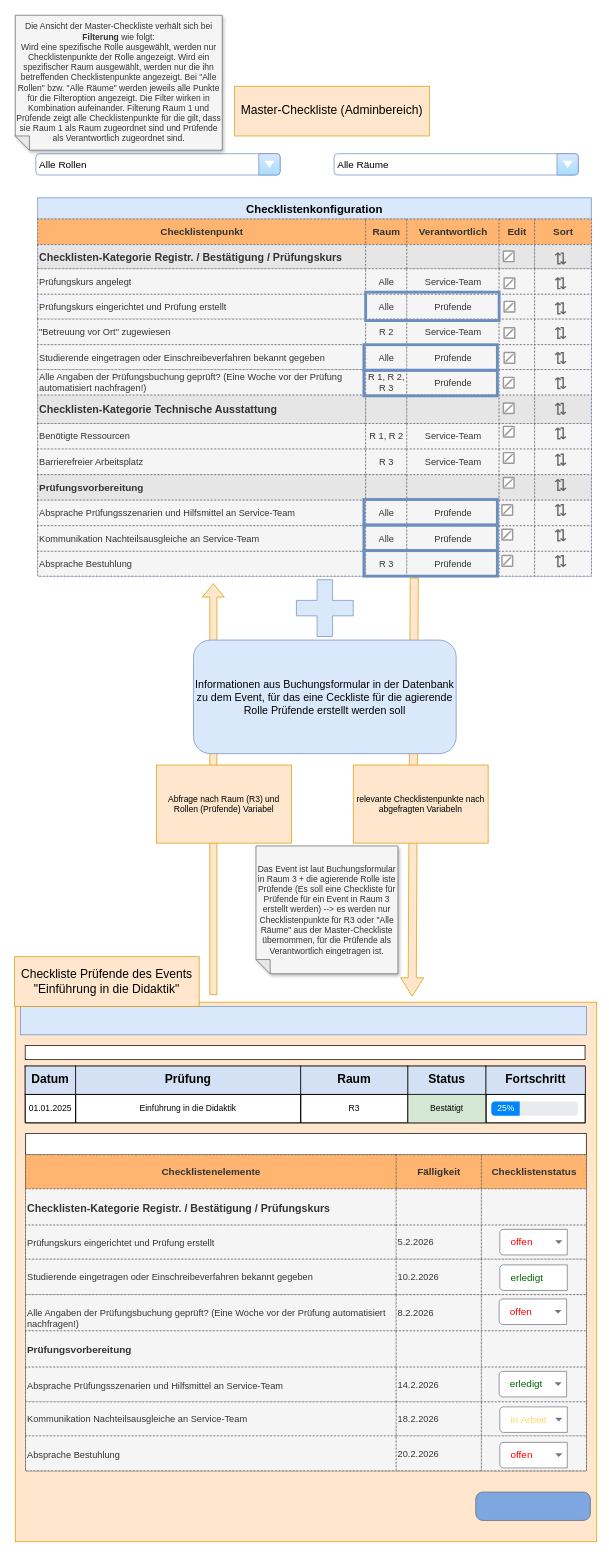
The diagram is 609 pixels wide and 1554 high, and some of its shapes have lost their labels. The shapes that lost their labels are listed below. From the top down, each one's centre as x and y in pixels, then its label:
At point (303, 1020): "Checkliste".
At point (304, 1052): "Prüfungsangaben / Details aus dem Event".
At point (532, 1505): "Speichern".
